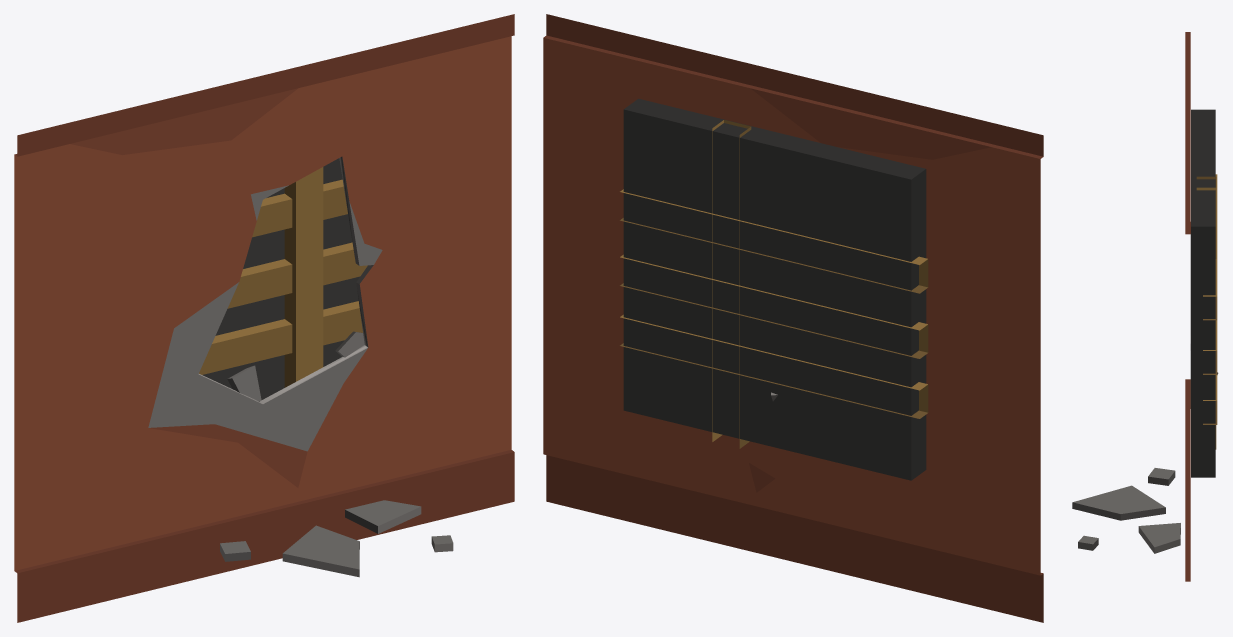
The model's file is AI_Env_Wall_Red_Hole_Large.fbx.
3 views of the same model, side by side, from view 1: azimuth 30°, elevation 25°; view 2: azimuth 150°, elevation 25°; view 3: azimuth 270°, elevation 25° (orthographic). The views are drawn at different scales.
Visible parts, largest first — view 1: AI_Env_Wall_Red_Hole_Large; view 2: AI_Env_Wall_Red_Hole_Large; view 3: AI_Env_Wall_Red_Hole_Large.
Boxes of the visible parts, x1,y1,x2,y2 form: AI_Env_Wall_Red_Hole_Large: (14,14,514,622); AI_Env_Wall_Red_Hole_Large: (543,14,1043,622); AI_Env_Wall_Red_Hole_Large: (1072,32,1218,581).
Size of the model in its own units: 5 by 4.69 by 1.53.
